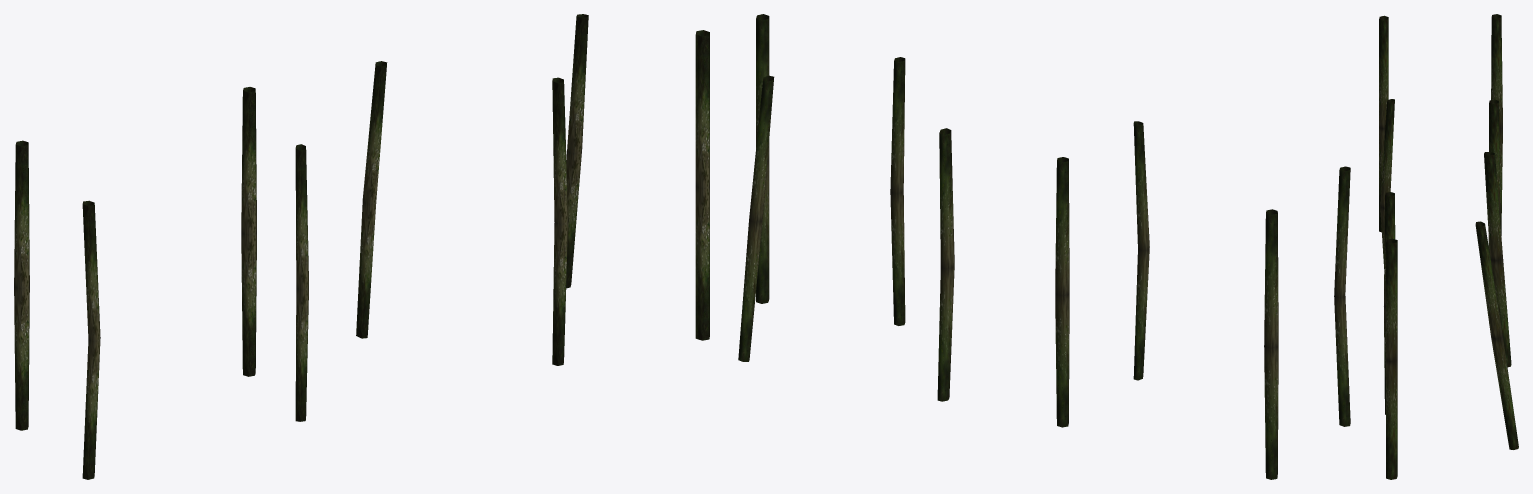
Rendered from pir_m_prp_per_walkway_underwater.fbx.
3 views of the same model, side by side, from view 1: azimuth 30°, elevation 25°; view 2: azimuth 150°, elevation 25°; view 3: azimuth 270°, elevation 25° (orthographic). The views are drawn at different scales.
Visible parts, largest first — view 1: lod_high; view 2: lod_high; view 3: lod_high.
Boxes of the visible parts, left/top/right/bottom form: lod_high: left=14, top=14, right=709, bottom=479; lod_high: left=738, top=14, right=1350, bottom=479; lod_high: left=1379, top=14, right=1518, bottom=479.
Bounding box in the file's own units: 14296 × 6579 × 3532.
Materials: 1 (1 with a texture image).
